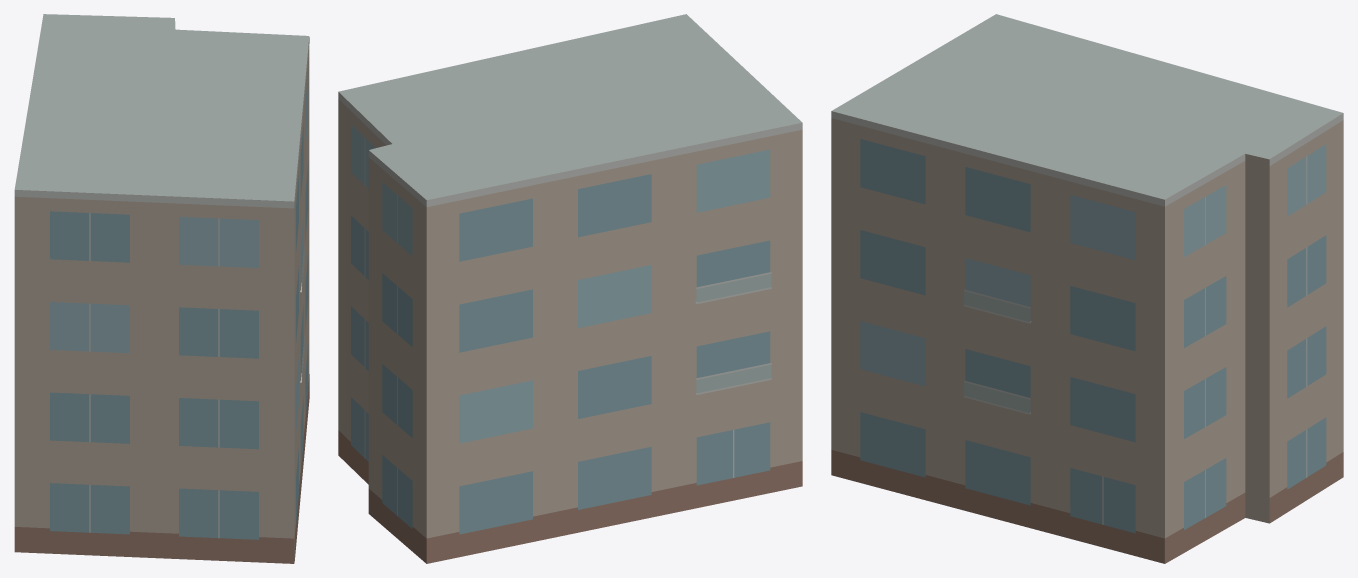
File: survey-upis-32725828.glb
The picture shows the model from 3 angles, left to right: view 1: azimuth 30°, elevation 25°; view 2: azimuth 150°, elevation 25°; view 3: azimuth 270°, elevation 25°; orthographic projection.
Parts seen in each view (by area): view 1: survey-upis-32725828.tmp; view 2: survey-upis-32725828.tmp; view 3: survey-upis-32725828.tmp.
Part boxes in pixels (x1,y1,x2,y2): survey-upis-32725828.tmp: (14, 14, 309, 563); survey-upis-32725828.tmp: (338, 14, 802, 563); survey-upis-32725828.tmp: (831, 14, 1343, 563).
Size of the model in its own units: 14.01 by 12.8 by 16.33.
